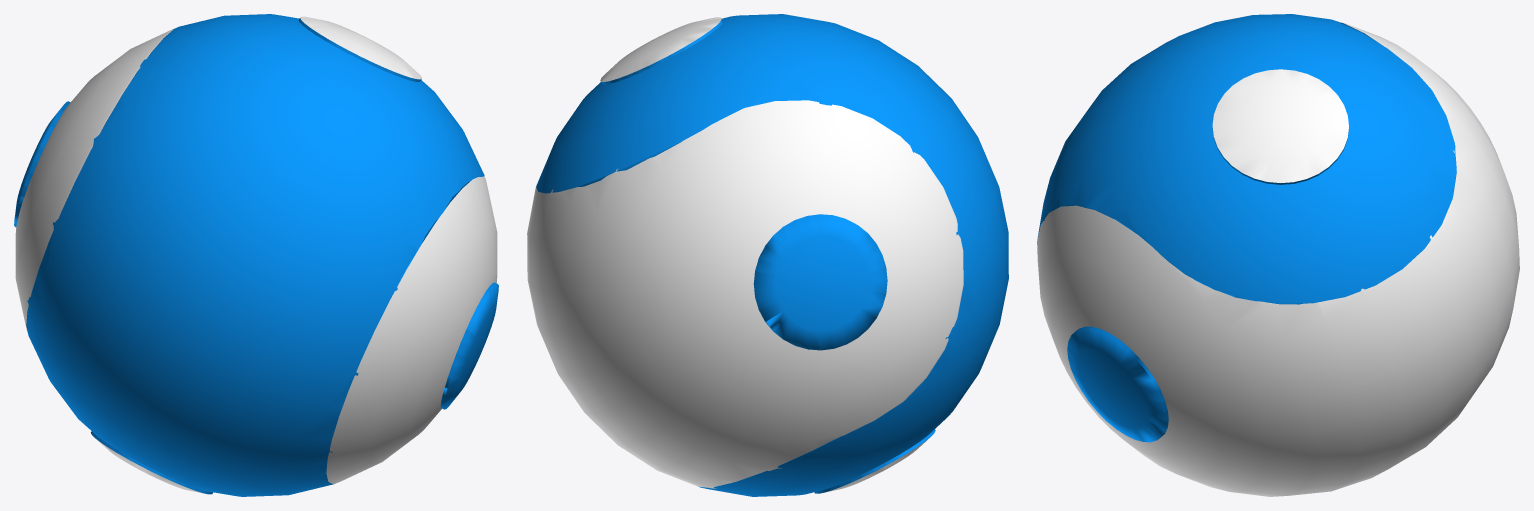
File: yinyang_jade_aqua.obj
3 views of the same model, side by side, from view 1: azimuth 30°, elevation 25°; view 2: azimuth 150°, elevation 25°; view 3: azimuth 270°, elevation 25° (orthographic).
Visible parts, largest first — view 1: SphereDark, SphereLight, eyeDark, eyeLight; view 2: SphereLight, SphereDark, eyeDark, eyeLight; view 3: SphereLight, SphereDark, eyeLight, eyeDark.
Part boxes in pixels (x1=…): SphereDark: x1=27, y1=14, x2=484, y2=496; SphereLight: x1=15, y1=27, x2=497, y2=483; eyeDark: x1=14, y1=101, x2=498, y2=409; eyeLight: x1=91, y1=16, x2=421, y2=494; SphereLight: x1=527, y1=100, x2=963, y2=488; SphereDark: x1=536, y1=14, x2=1008, y2=496; eyeDark: x1=753, y1=214, x2=887, y2=350; eyeLight: x1=600, y1=17, x2=935, y2=493; SphereLight: x1=1037, y1=22, x2=1519, y2=496; SphereDark: x1=1037, y1=14, x2=1456, y2=304; eyeLight: x1=1212, y1=69, x2=1348, y2=184; eyeDark: x1=1067, y1=279, x2=1302, y2=442.
Size of the model in its own units: 2 by 2 by 2.
